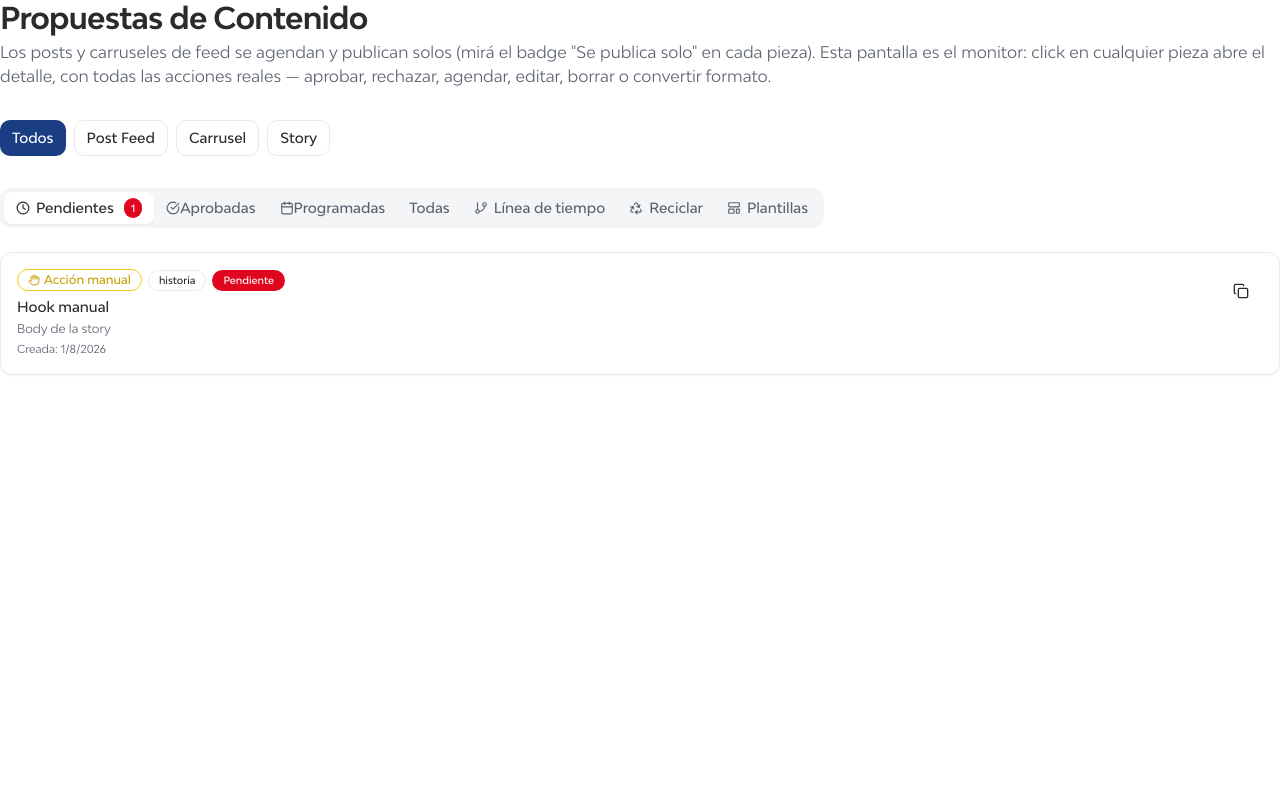
Test: Propuestas Page › opens the shared detail dialog when clicking a piece
The image size is (1280, 800).
Step 1. Click the text "Hook manual" → (63, 306), box [17,298,109,315]
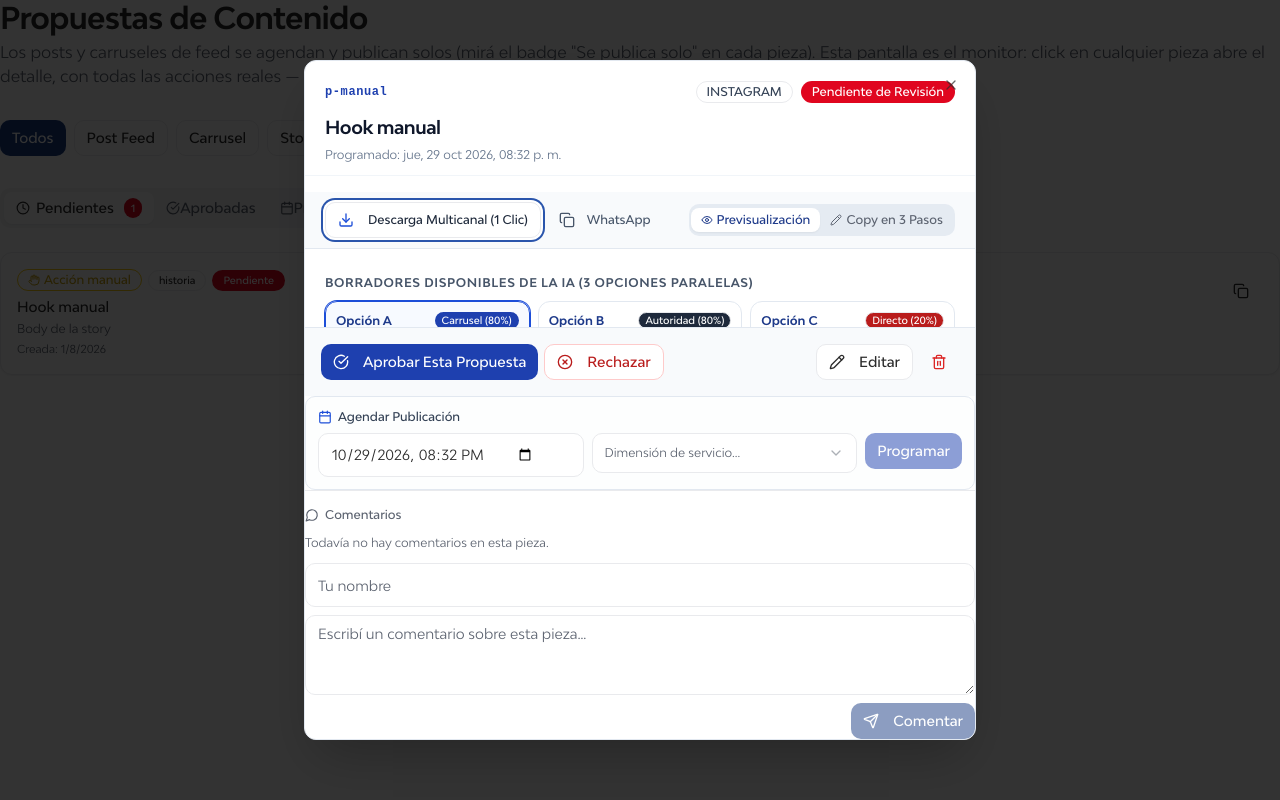
expect the button "Editar" is shown: met, box [816,344,913,380]
